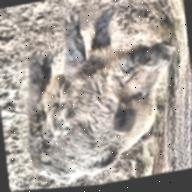boar: (12, 0, 188, 191)
